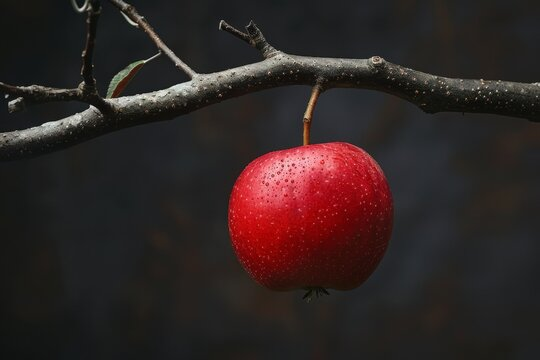apple/: (223, 136, 400, 306)
